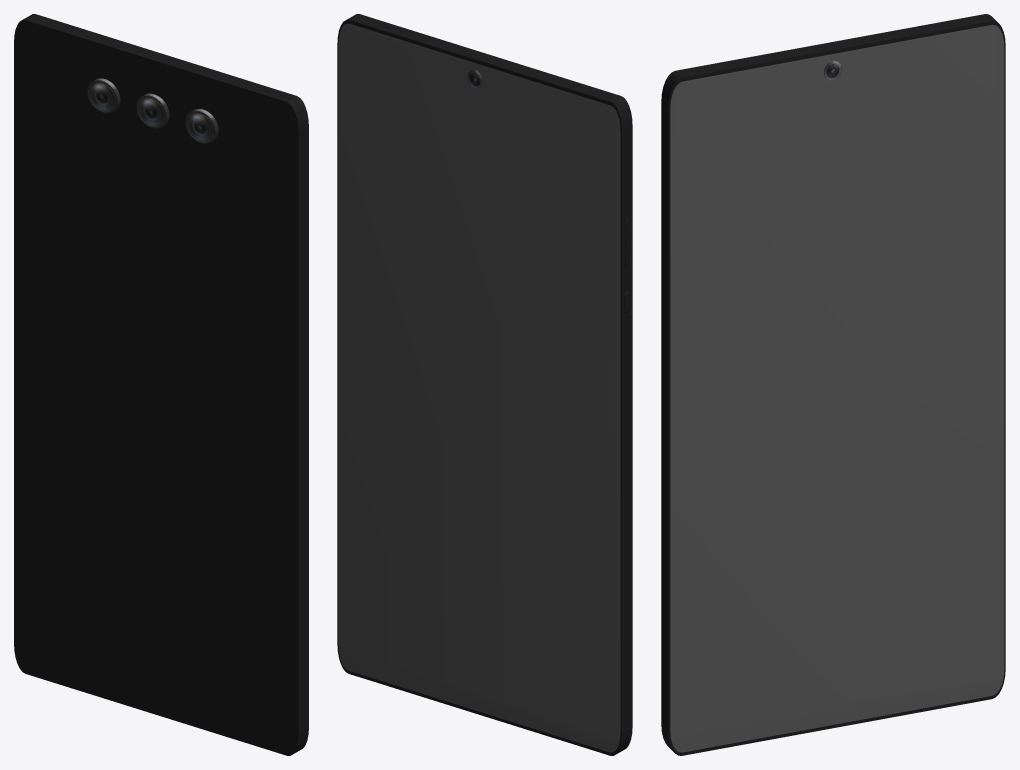
File: ng phones.glb
3 renders of one model, left to right at view 1: azimuth 30°, elevation 25°; view 2: azimuth 210°, elevation 25°; view 3: azimuth 270°, elevation 25°, orthographic. The views are drawn at different scales.
Visible parts, largest first — view 1: Cube, Окружность.004; view 2: Cube.005, Cube; view 3: Cube.005, Cube.
Boxes of the visible parts, left/top/right/bottom form: Cube: left=14, top=14, right=308, bottom=755; Окружность.004: left=87, top=78, right=218, bottom=143; Cube.005: left=338, top=23, right=620, bottom=752; Cube: left=337, top=14, right=632, bottom=755; Cube.005: left=670, top=24, right=1004, bottom=752; Cube: left=661, top=14, right=1005, bottom=755.
Size of the model in its own units: 0.0959 by 0.4406 by 0.2028.
Materials: 4 (2 with a texture image).
